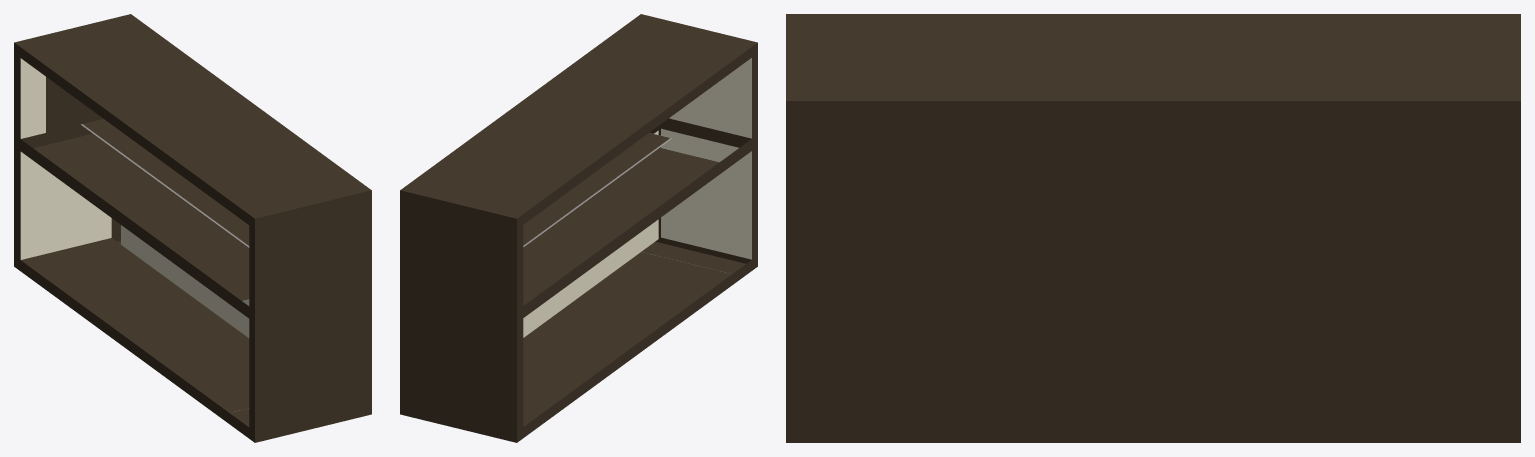
Rendered from bookshelf.fbx.
The picture shows the model from 3 angles, left to right: view 1: azimuth 30°, elevation 25°; view 2: azimuth 150°, elevation 25°; view 3: azimuth 270°, elevation 25°; orthographic projection. The views are drawn at different scales.
Parts seen in each view (by area): view 1: Cube.001; view 2: Cube.001; view 3: Cube.001.
Boxes of the visible parts, left/top/right/bottom form: Cube.001: left=14, top=14, right=371, bottom=442; Cube.001: left=400, top=14, right=757, bottom=442; Cube.001: left=786, top=14, right=1520, bottom=442.
Size of the model in its own units: 39.15 by 71.81 by 140.
